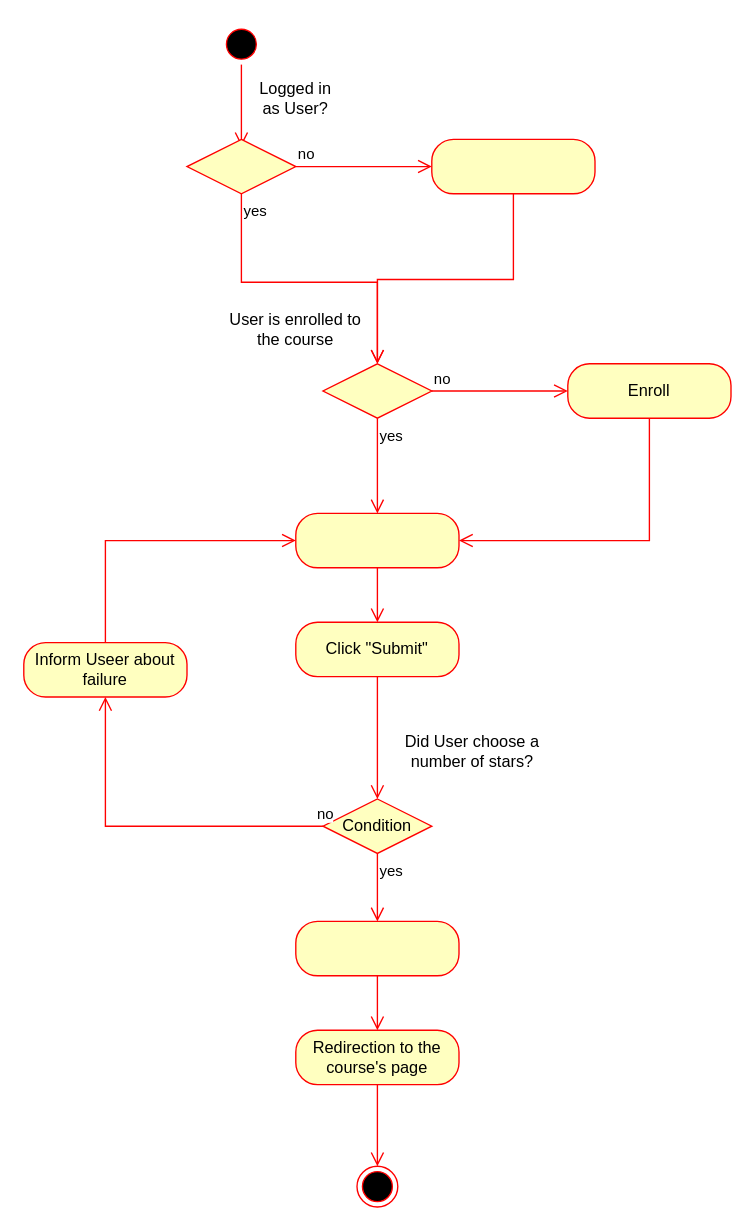
The diagram is 755 pixels wide and 1231 high, and some of its shapes have lost their labels. The centre of each missing label's shape, as x and y in pixels:
Click "Rate": (376,540)
Inform User about success: (376,948)
Log in: (512,166)
